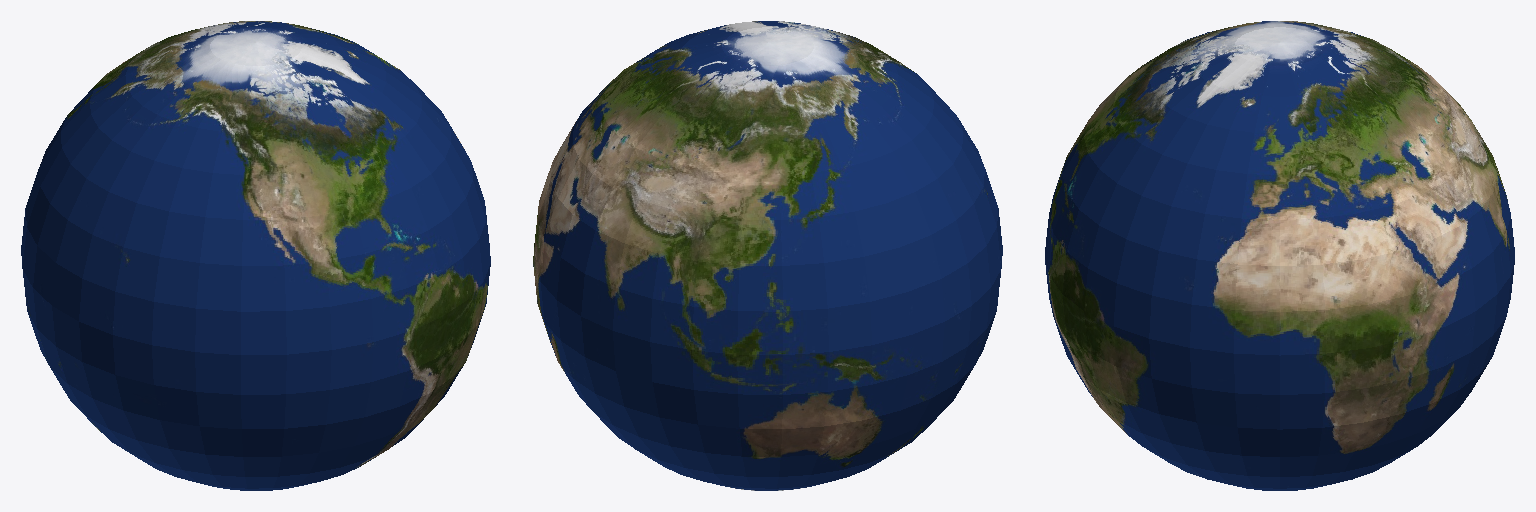
3 renders of one model, left to right at view 1: azimuth 30°, elevation 25°; view 2: azimuth 150°, elevation 25°; view 3: azimuth 270°, elevation 25°, orthographic.
Visible parts, largest first — view 1: unnamed_object1; view 2: unnamed_object1; view 3: unnamed_object1.
Boxes of the visible parts, x1=… form: unnamed_object1: x1=21, y1=21, x2=490, y2=490; unnamed_object1: x1=533, y1=21, x2=1002, y2=490; unnamed_object1: x1=1045, y1=21, x2=1514, y2=490.
Size of the model in its own units: 2 by 2 by 2.
1 materials, 1 textured.